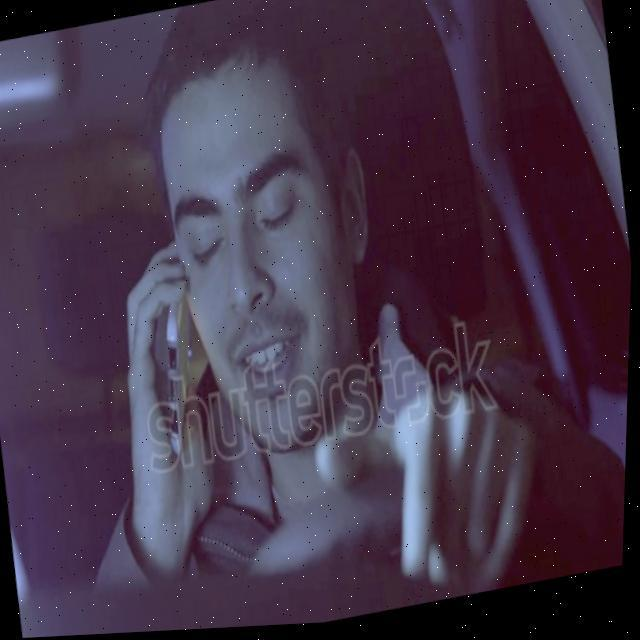PhoneCall: (142, 258, 233, 464)
